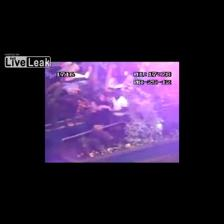person: (112, 84, 128, 121)
